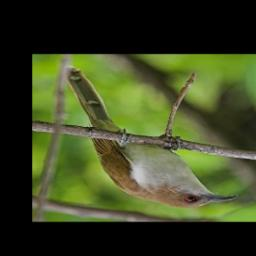Cuckoo: (66, 67, 238, 209)
